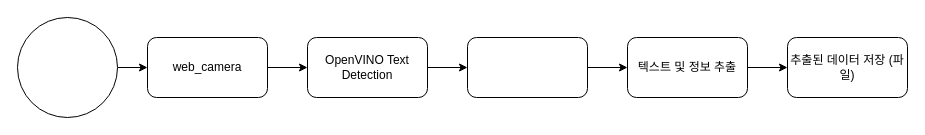
Some shapes in this 925 by 135 pixel diagram are drawn without their labels. Here are the shapes that lost their labels. From the top down, the box of each, then its label:
(16, 16, 118, 118): 시작
(466, 36, 588, 98): Tesseract OCR
